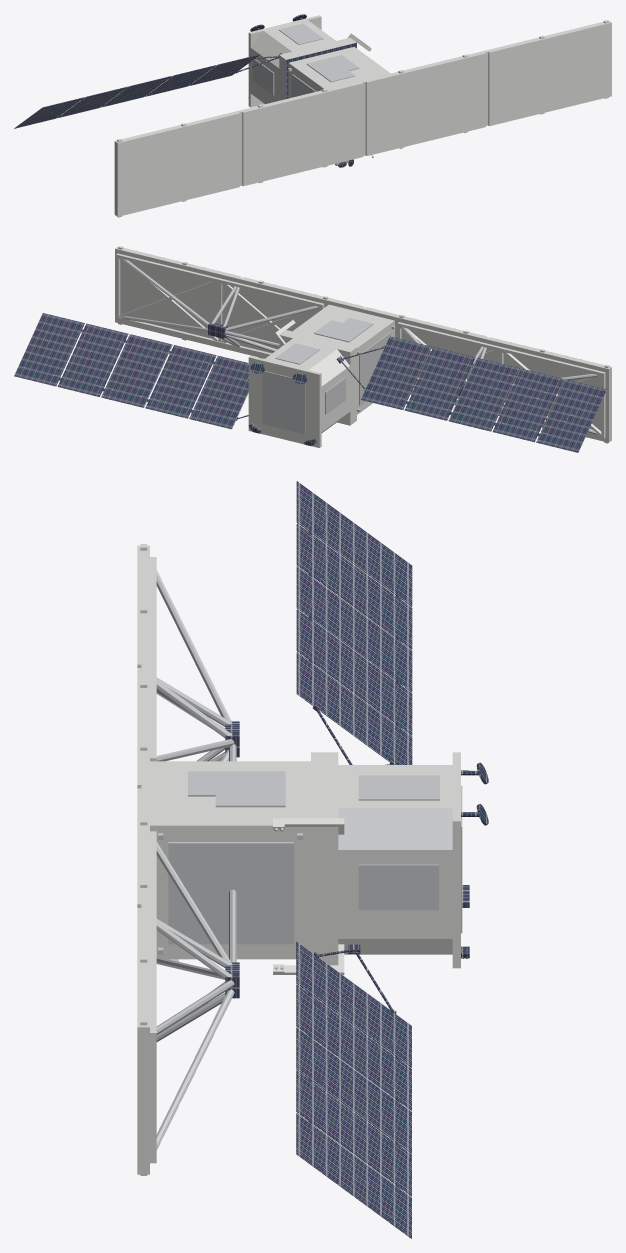
File: radarsat-1.glb
3 renders of one model, top to bottom at view 1: azimuth 30°, elevation 25°; view 2: azimuth 150°, elevation 25°; view 3: azimuth 270°, elevation 25°, orthographic. The views are drawn at different scales.
Parts seen in each view (by area): view 1: radarsat-1; view 2: radarsat-1; view 3: radarsat-1.
Part boxes in pixels (<box>): radarsat-1: <box>14,14,611,217</box>; radarsat-1: <box>14,246,611,452</box>; radarsat-1: <box>137,481,488,1238</box>.
Size of the model in its own units: 15 by 2.63 by 4.04.
3 materials, 1 textured.
